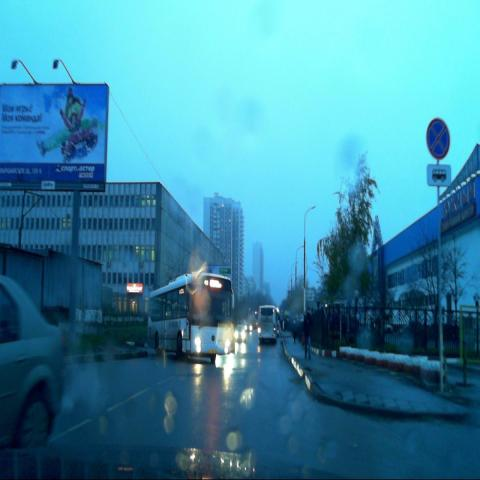8_4_4: (427, 164, 451, 185)
